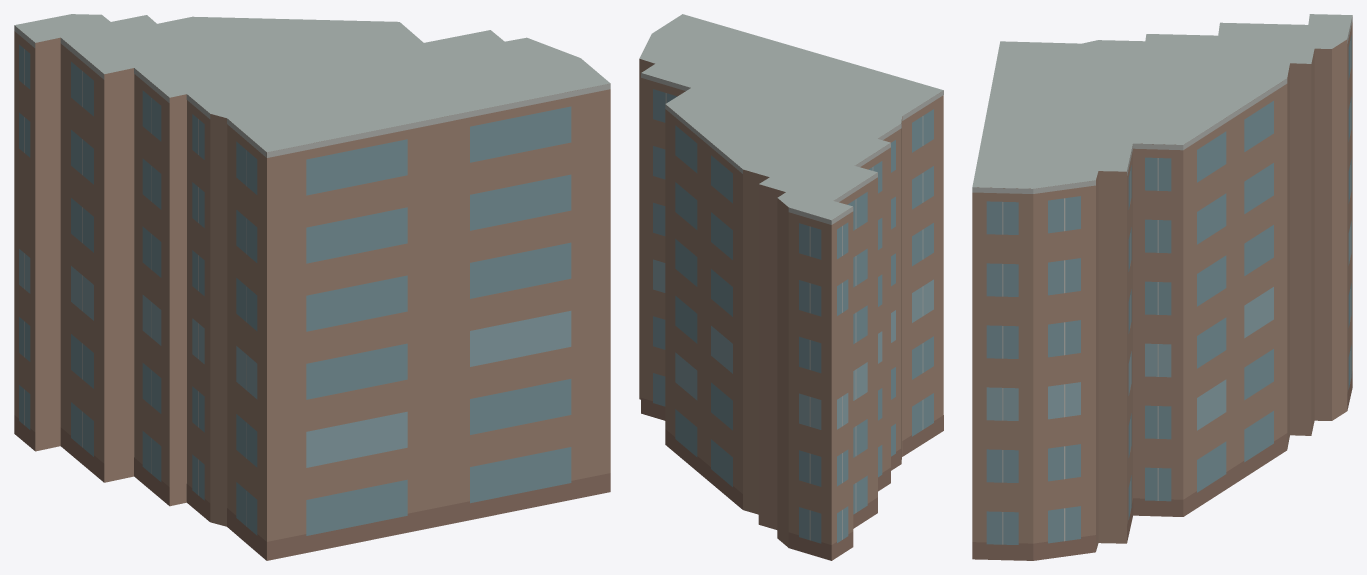
File: survey-upis-32667989.glb
3 renders of one model, left to right at view 1: azimuth 30°, elevation 25°; view 2: azimuth 150°, elevation 25°; view 3: azimuth 270°, elevation 25°, orthographic. The views are drawn at different scales.
Visible parts, largest first — view 1: survey-upis-32667989.tmp; view 2: survey-upis-32667989.tmp; view 3: survey-upis-32667989.tmp.
Boxes of the visible parts, left/top/right/bottom form: survey-upis-32667989.tmp: left=14, top=14, right=610, bottom=560; survey-upis-32667989.tmp: left=639, top=14, right=943, bottom=560; survey-upis-32667989.tmp: left=972, top=14, right=1352, bottom=560.
Bounding box in the file's own units: 17.45 × 17.3 × 16.04.
